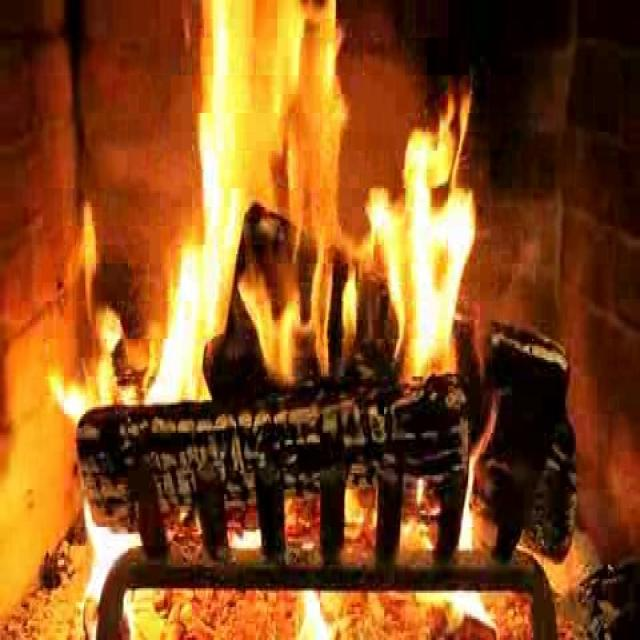fire: (151, 0, 496, 419)
